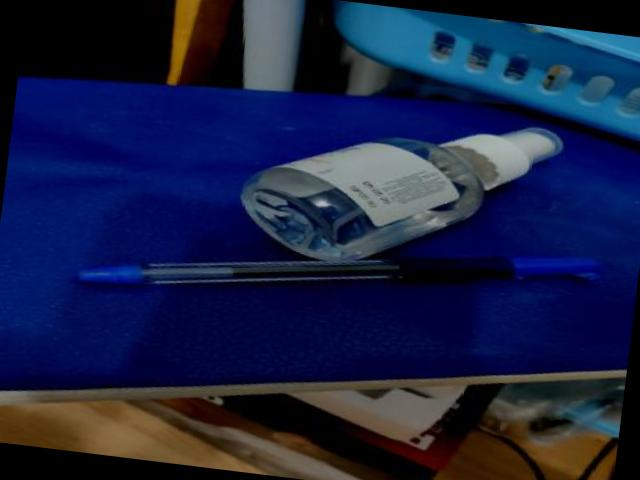PEN: (77, 241, 615, 290)
